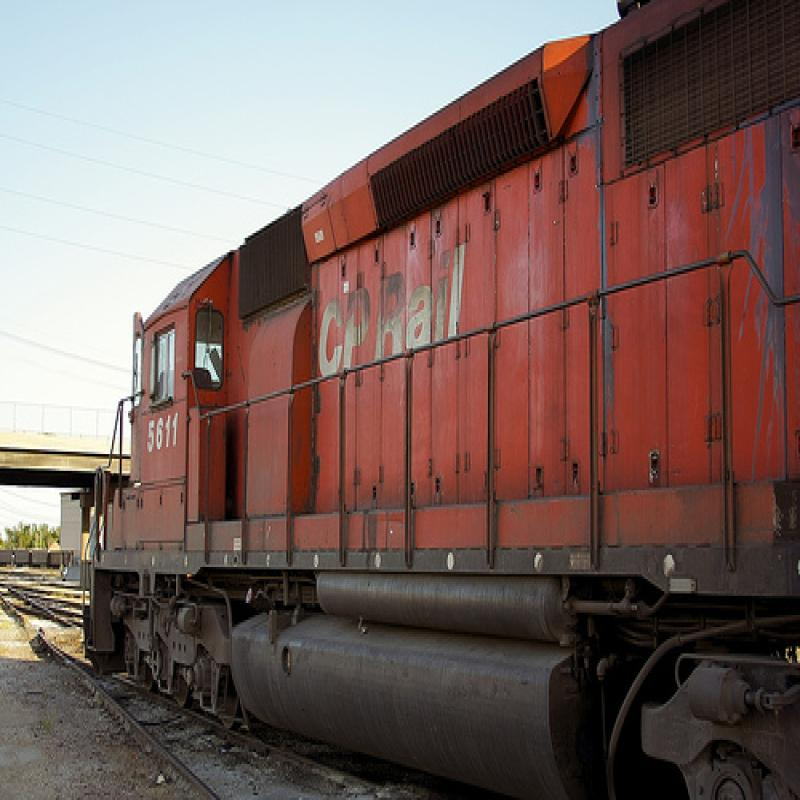train: (81, 1, 799, 799)
